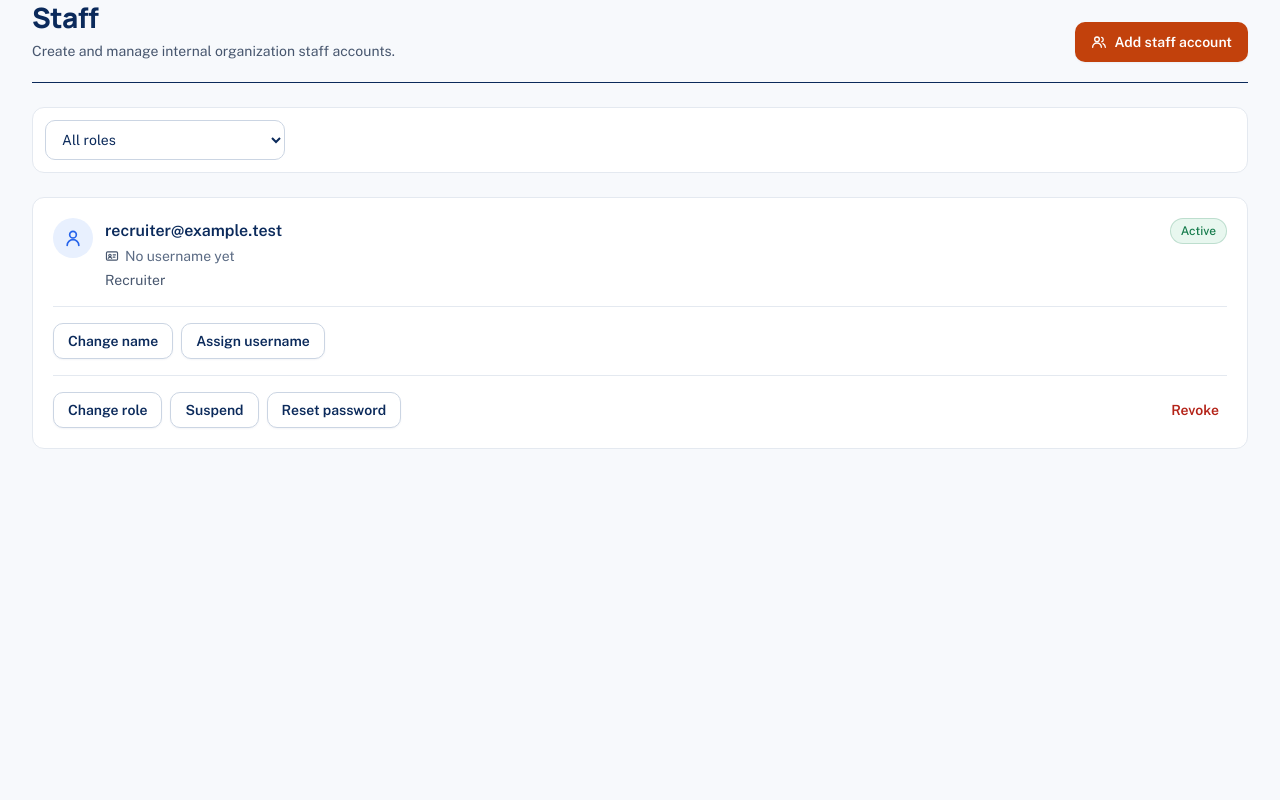
StaffPage (organization) › a network failure on revoke is reported with what to do next
The image size is (1280, 800).
Click the button "Revoke".
click(1195, 410)  # box [1163, 396, 1227, 424]
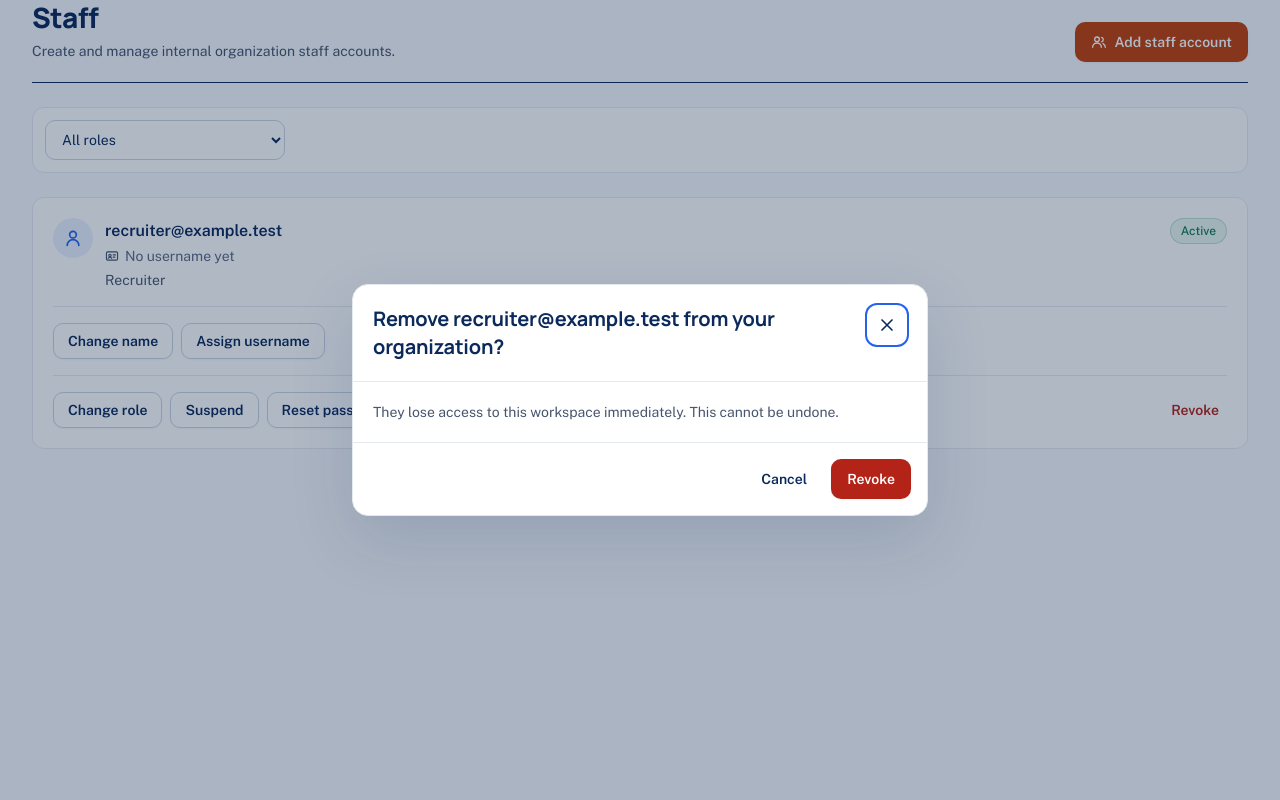
Click the button "Revoke".
click(871, 479)  # box [831, 459, 911, 499]
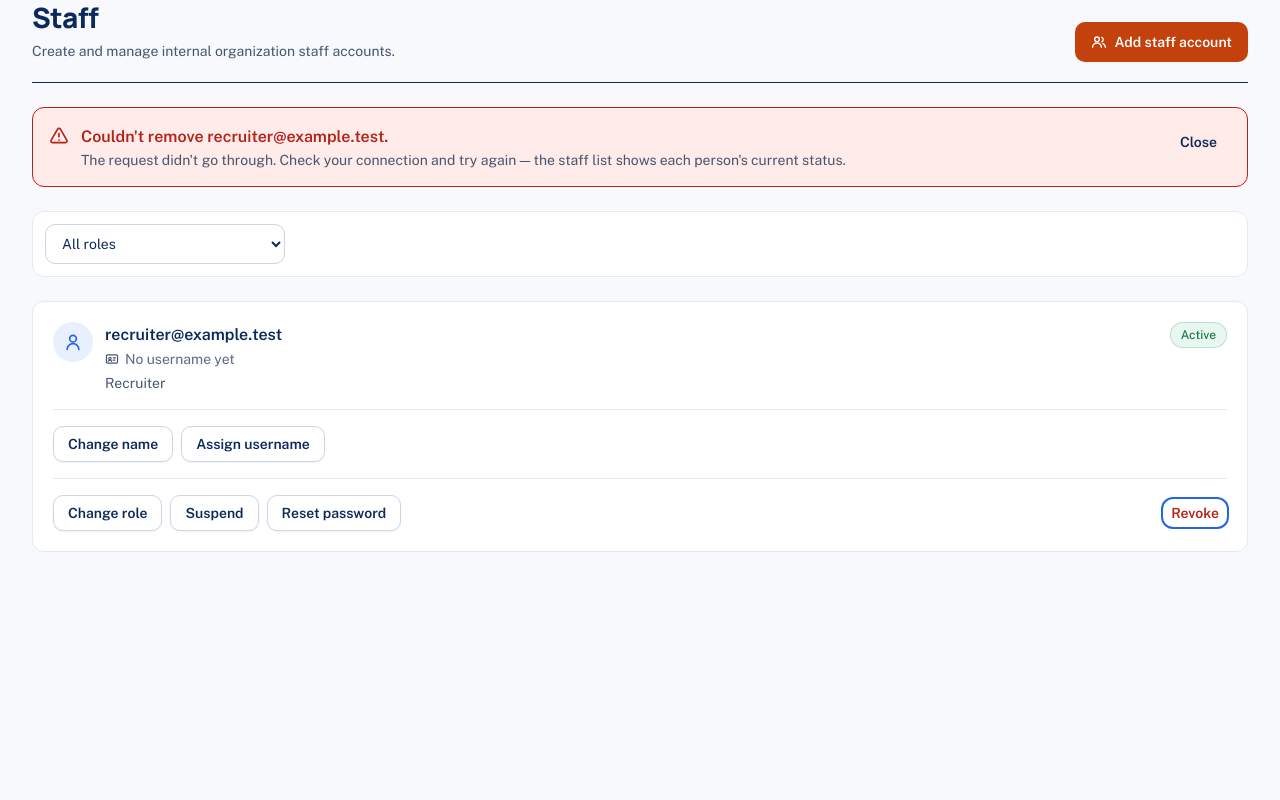
Check: the message shows "Couldn't remove recruiter@example.test.", box [81, 127, 388, 146]
Check: the message shows "check your connection and try again", box [81, 152, 846, 168]
